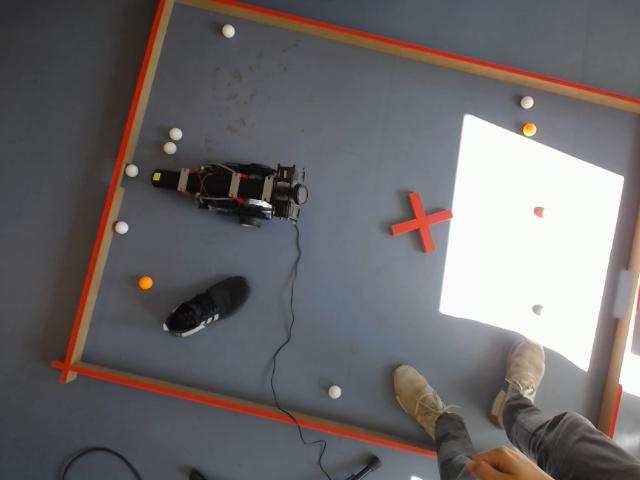orange: (522, 123, 538, 137), (138, 276, 154, 290)
robot: (150, 163, 310, 228)
robot-front: (151, 169, 176, 188)
white: (520, 95, 535, 109), (221, 24, 236, 38), (125, 163, 139, 178), (328, 385, 342, 399), (115, 221, 128, 234), (170, 128, 183, 140), (164, 142, 177, 154)
